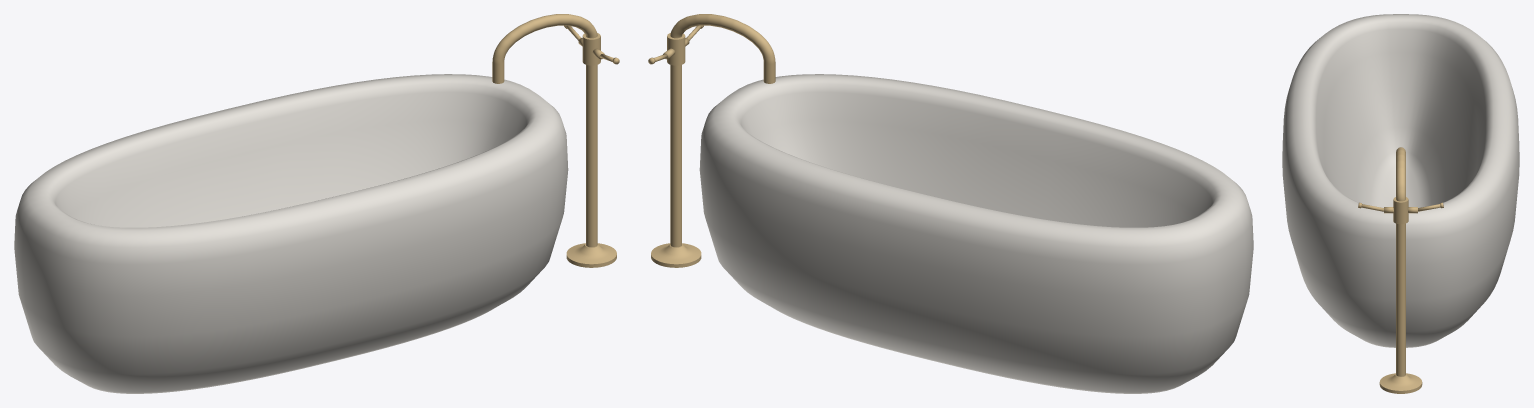
File: bath_tub.gltf
3 views of the same model, side by side, from view 1: azimuth 30°, elevation 25°; view 2: azimuth 150°, elevation 25°; view 3: azimuth 270°, elevation 25° (orthographic). The views are drawn at different scales.
Visible parts, largest first — view 1: BathTub_Body, BathTub_PipingBrass; view 2: BathTub_Body, BathTub_PipingBrass; view 3: BathTub_Body, BathTub_PipingBrass.
Boxes of the visible parts, x1,y1,x2,y2 form: BathTub_Body: (14,74,568,393); BathTub_PipingBrass: (492,14,619,267); BathTub_Body: (699,74,1253,393); BathTub_PipingBrass: (648,14,775,267); BathTub_Body: (1282,14,1519,347); BathTub_PipingBrass: (1358,147,1443,393).
Bounding box in the file's own units: 1.99 × 0.8253 × 0.84.
